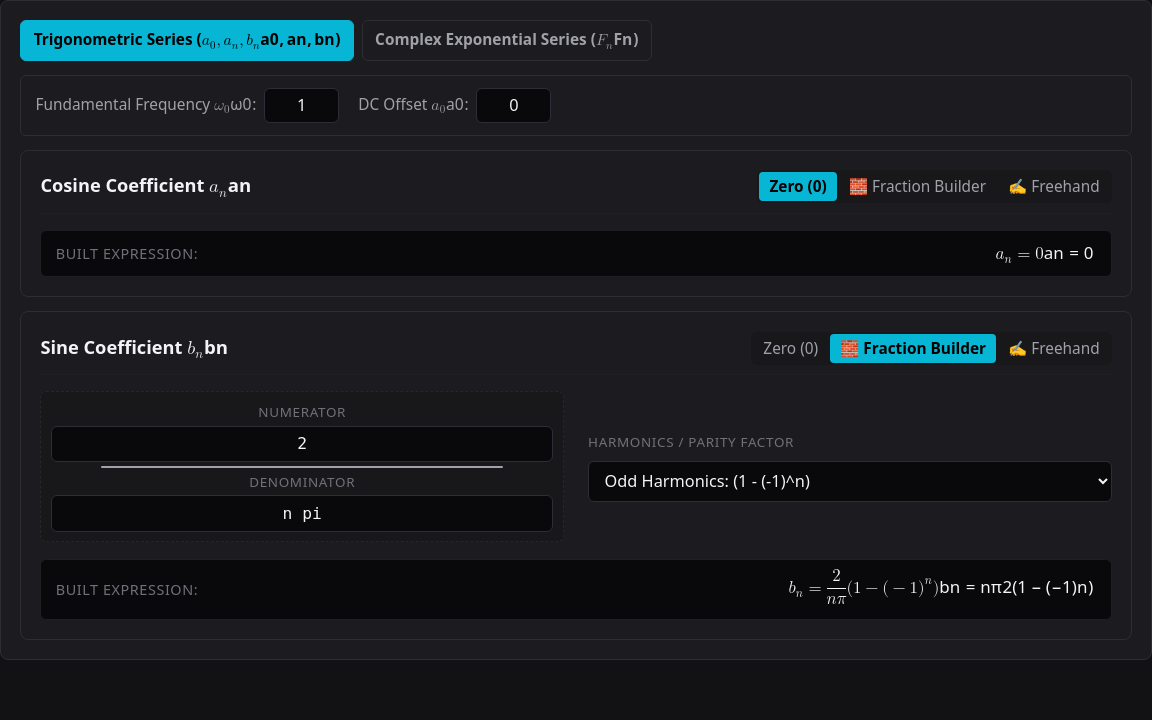
Test case: FourierSeriesInput › switches between trigonometric and exponential mode tabs
What coordinates should you click on to do the following:
click the button with class "mode-btn" that starts with "Complex Exponential Series ("
I would click on:
 (507, 40)
Its box is [362, 20, 652, 61].
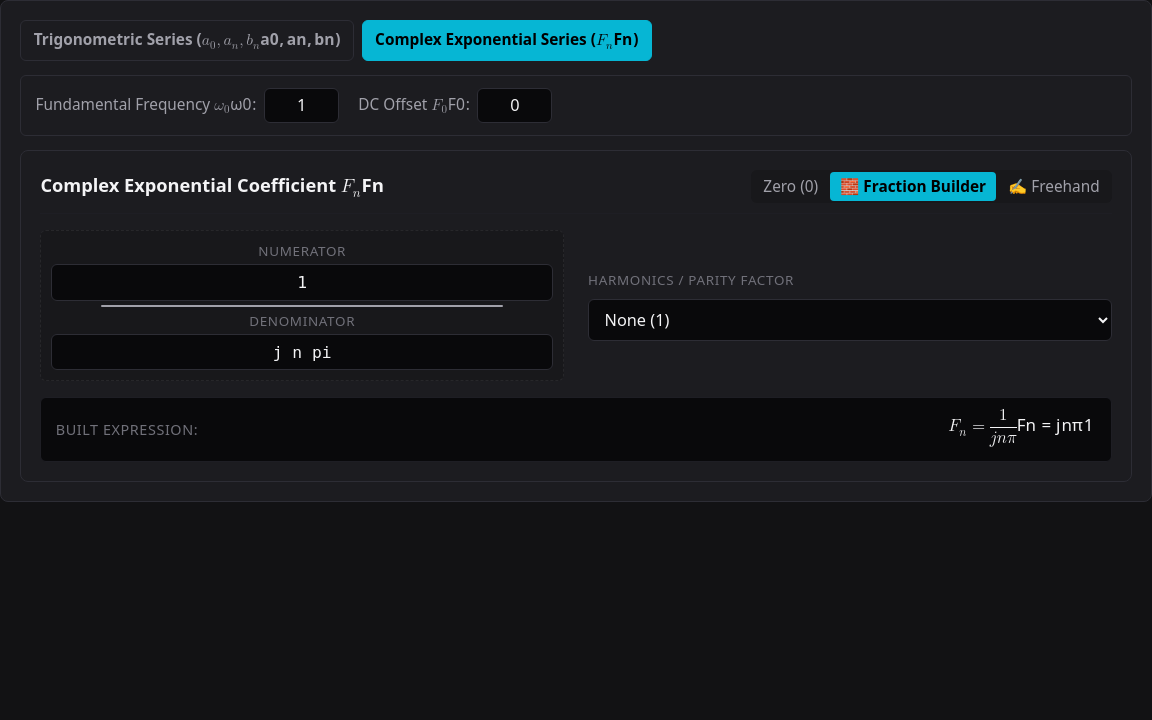
Check: the field with id "F0-input" is shown, box [478, 88, 552, 123]
Check: the element with class "coeff-label" shows "Complex Exponential Coefficient", box [40, 173, 341, 197]
What coordinates should you click on to do the following:
click the button with class "mode-btn" that starts with "Trigonometric Series ("
I would click on:
 (187, 40)
Its box is [20, 20, 354, 61].
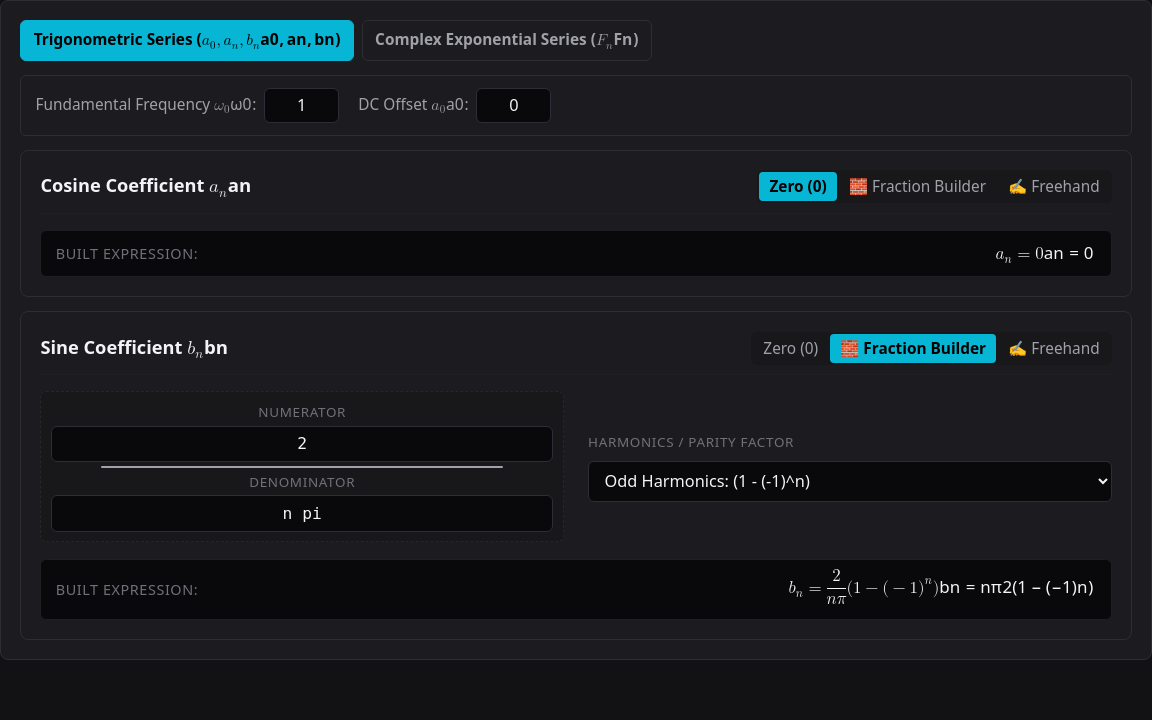
Check: the field with id "a0-input" is shown, box [476, 88, 551, 123]
